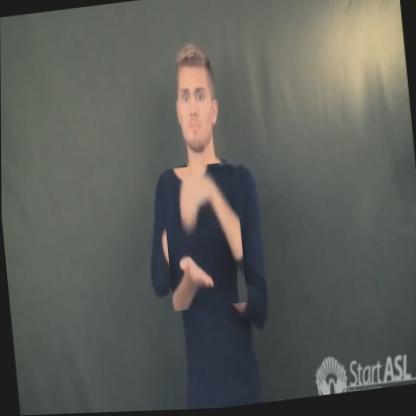Expensive: (160, 162, 247, 313)
